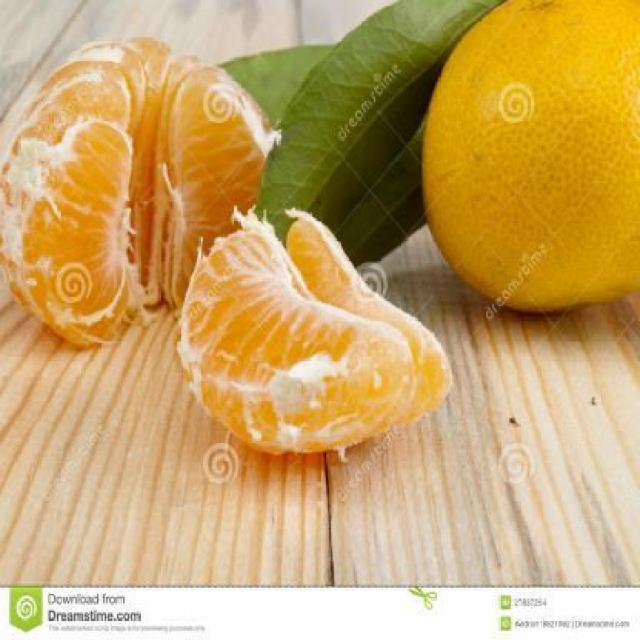Jeruk Sudah Matang: (424, 0, 640, 317)
